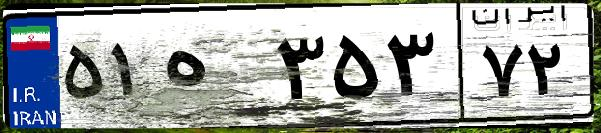1: (110, 28, 158, 98)
2: (525, 38, 570, 115)
3: (270, 28, 330, 110), (385, 28, 445, 110)
5: (330, 28, 385, 110), (57, 26, 110, 100)
7: (475, 38, 525, 113)
ه: (158, 20, 270, 120)
